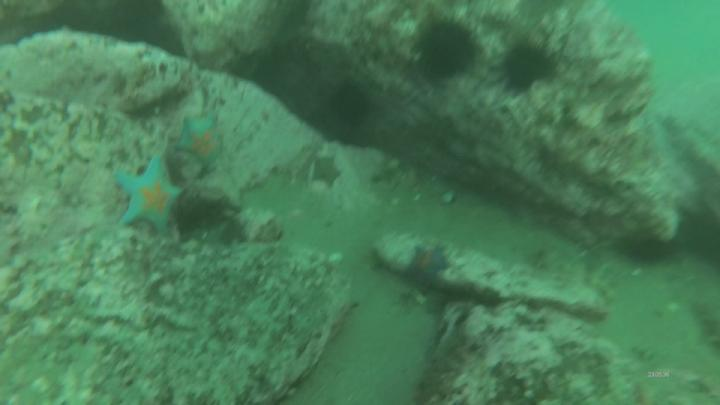echinus: (408, 16, 480, 84), (497, 30, 559, 97)
starfish: (111, 159, 186, 239), (165, 122, 231, 173), (408, 237, 453, 284), (308, 148, 345, 190)
